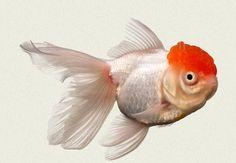goldfish: (63, 39, 222, 141)
